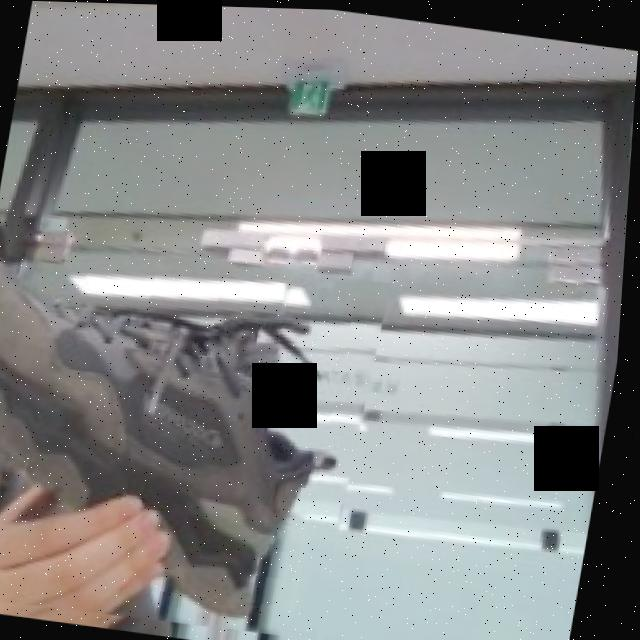shoe: (0, 229, 396, 640)
